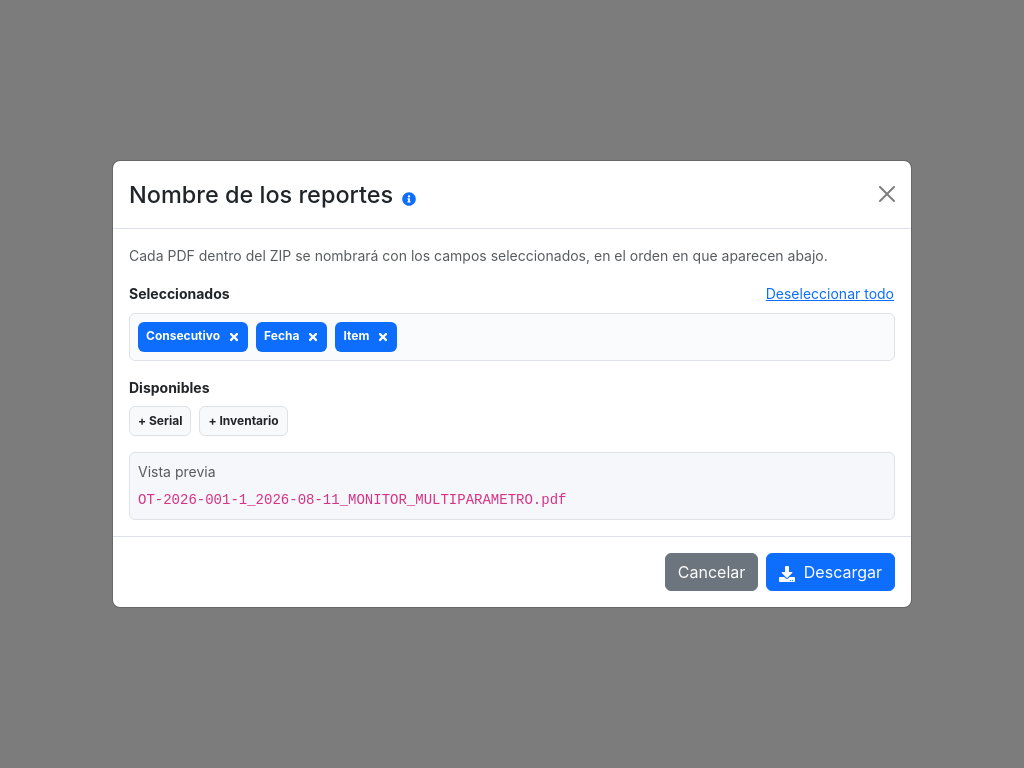
PdfReportsFilenameModal › clicking an unselected chip appends it to the selection
Click the button with aria-label "agregar serial" at (160, 421), box left=129, top=406, right=191, bottom=436
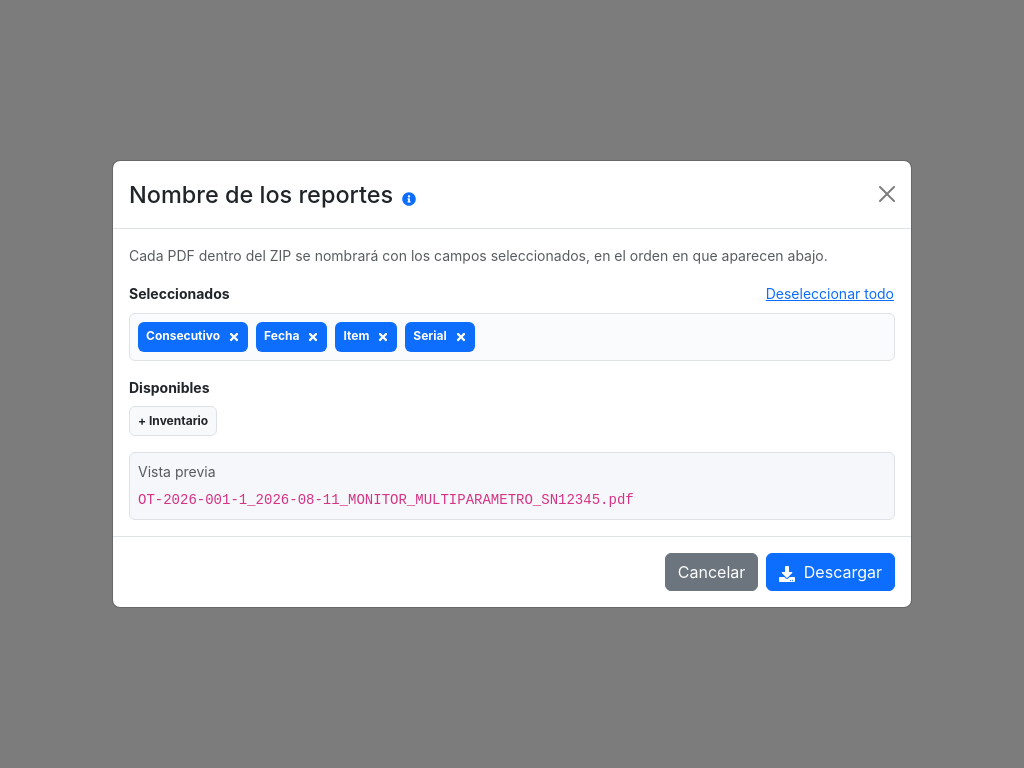
Check: the text with test id "pdf-filename-preview" reads "OT-2026-001-1_2026-08-11_MONITOR_MULTIPARAMETRO_SN12345.pdf", box left=138, top=492, right=634, bottom=508
